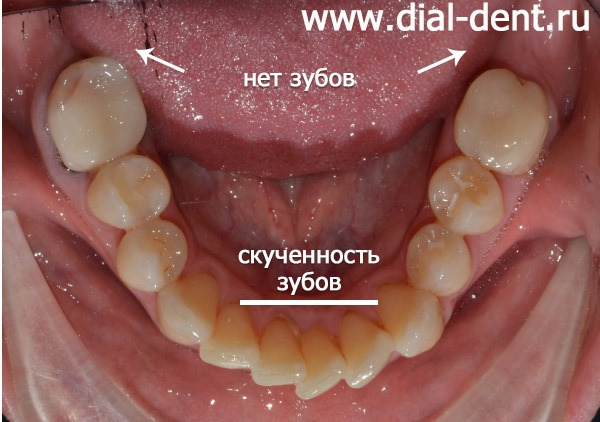LL1BC_healthy: (406, 224, 470, 292)
LL1M_healthy: (455, 70, 549, 173)
LL2BC_healthy: (428, 158, 501, 232)
LLCI_healthy: (301, 327, 343, 399)
LLC_healthy: (381, 288, 442, 357)
LLLI_healthy: (342, 316, 391, 388)
LR1BC_decay: (119, 220, 186, 287)
LR1M_healthy: (48, 57, 146, 167)
LR2BC_healthy: (88, 158, 170, 226)
LRCI_healthy: (259, 319, 303, 385)
LRC_healthy: (159, 278, 215, 344)
LRLI_healthy: (210, 310, 257, 366)
